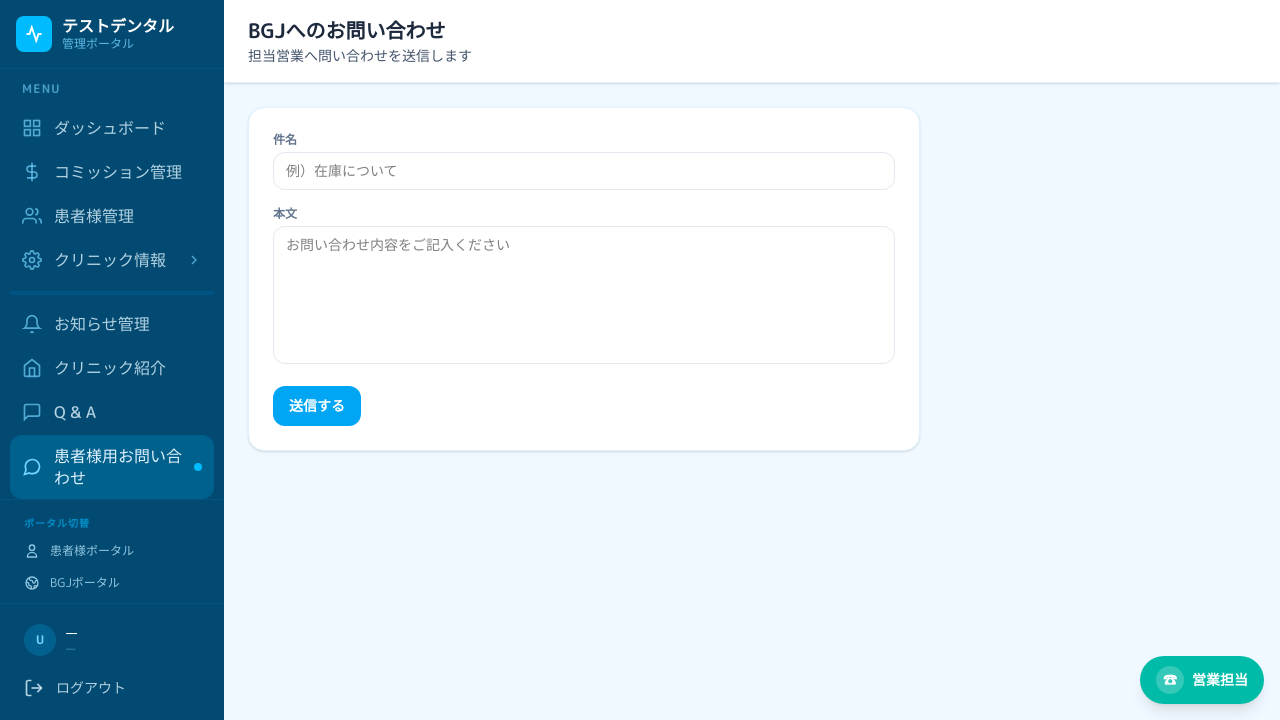
Test: AdminInquiryPage › 入力して送信するとPOSTし、成功メッセージを表示してフォームをクリアする
This screenshot has width=1280, height=720.
Type "在庫について" into the field with placeholder "例）在庫について".
click(584, 171); type("在庫について")  # box [273,152,895,190]
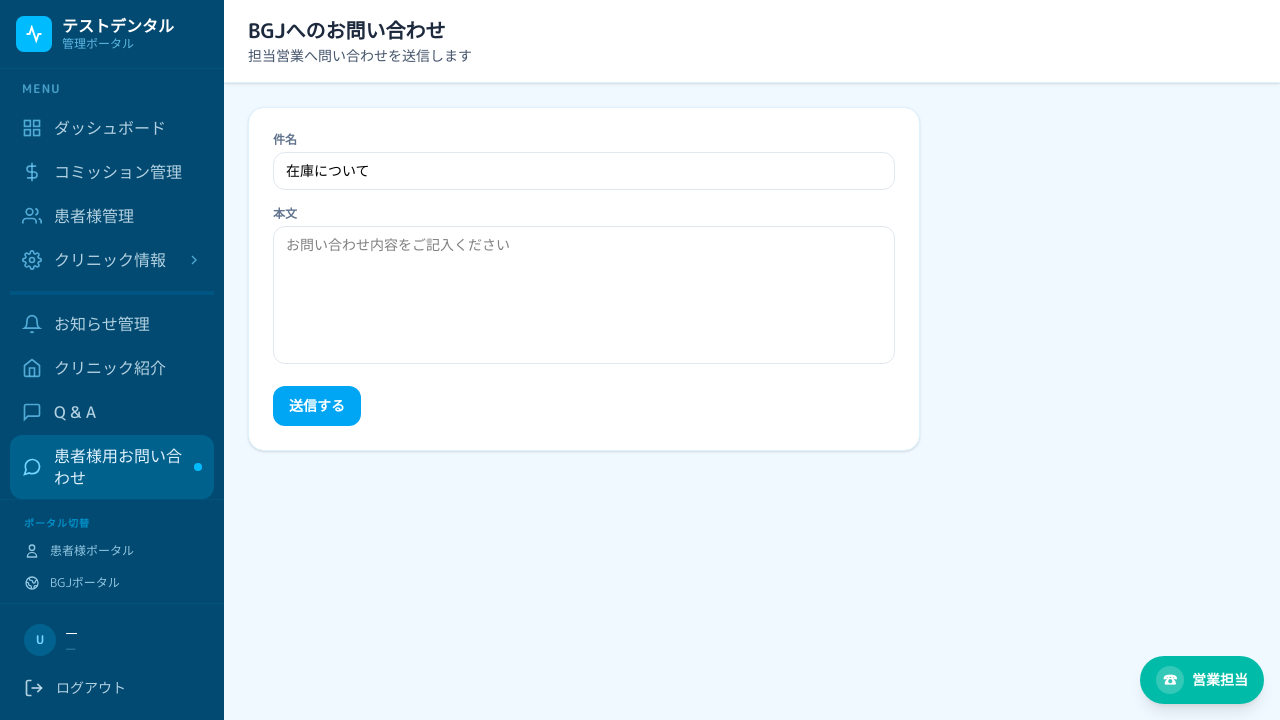
Type "不足しています" into the text box with placeholder "お問い合わせ内容をご記入ください".
click(584, 295); type("不足しています")  # box [273,226,895,364]
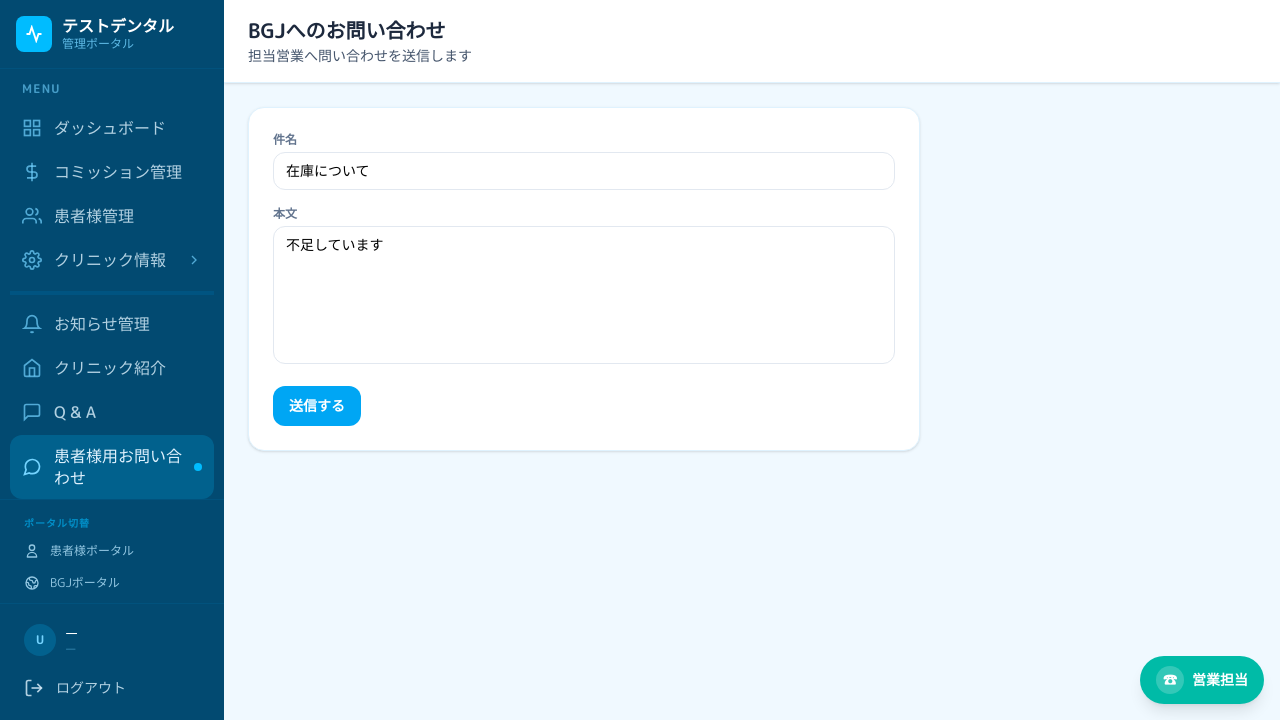
Click the button "送信する".
click(317, 406)  # box [273,386,361,426]
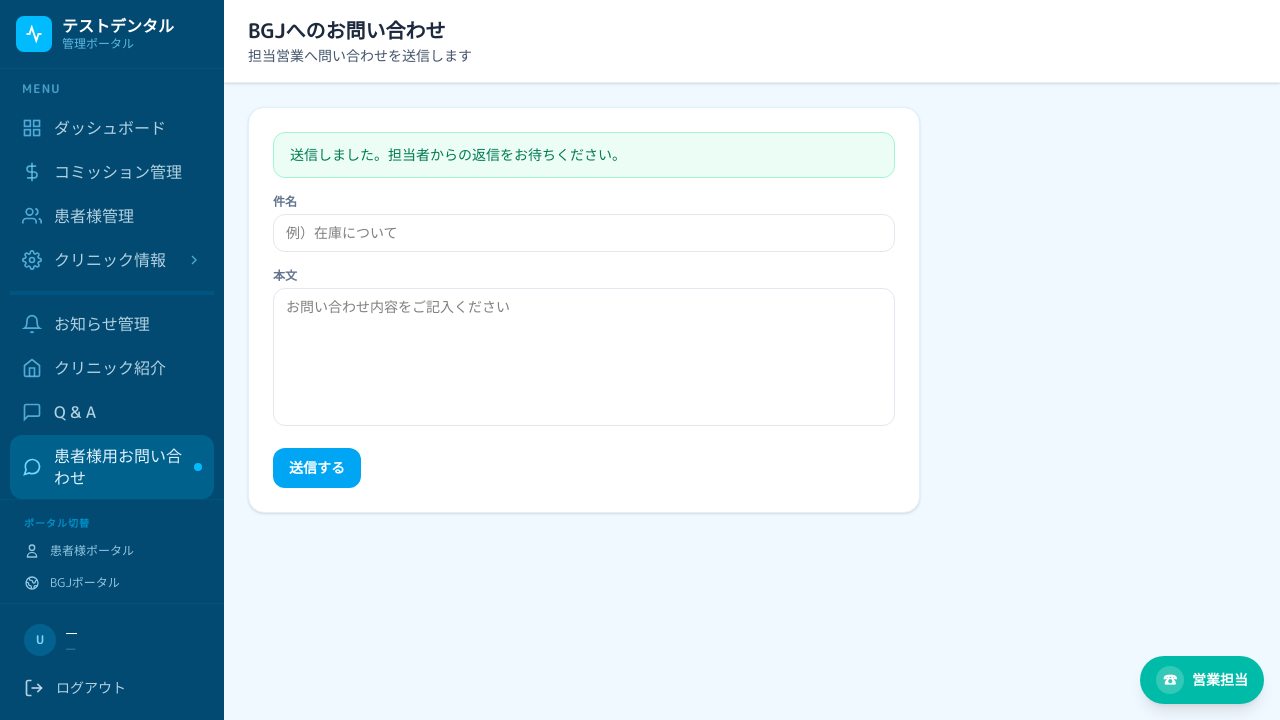
Expected: the text "送信しました。担当者からの返信をお待ちください。" is shown, [273,132,895,178]
Expected: the field with placeholder "例）在庫について" is empty, [273,214,895,252]
